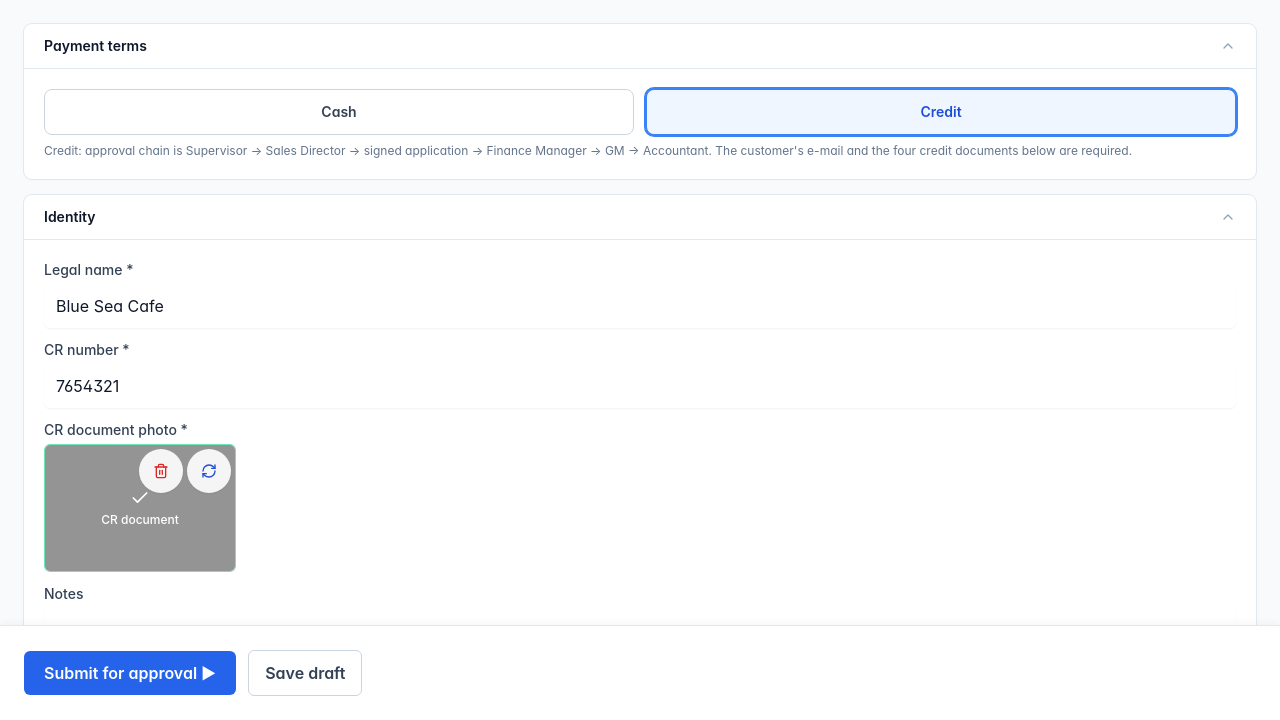
a refusal › of a document is said beside it; of something with no slot, at the top
Click the button "Save draft".
click(305, 673)  # box [248,650,362,696]
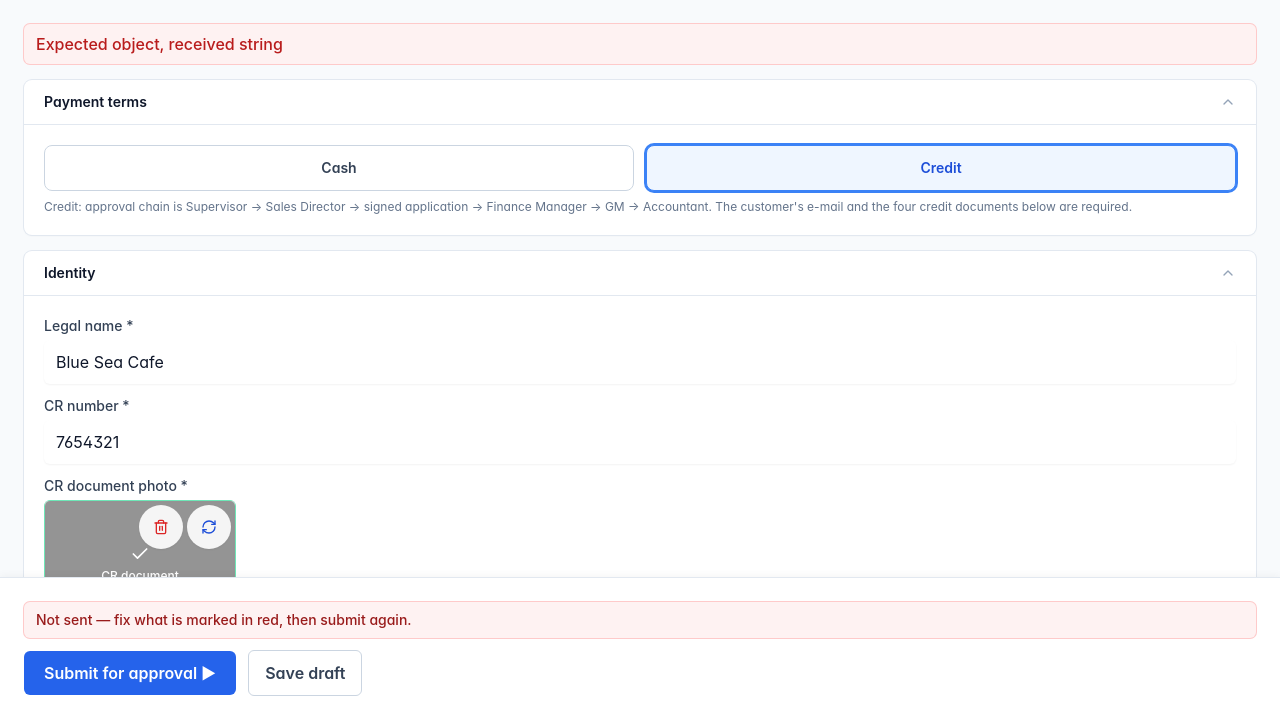
Result: the text "Expected object, received string" is shown at [24,24,1256,64]
